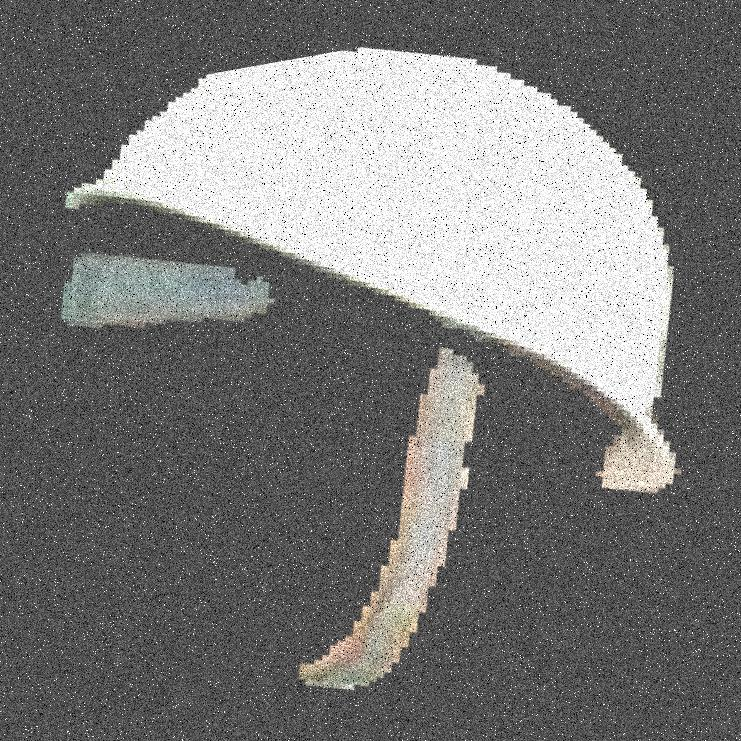Capacete: (371, 0, 546, 740)
